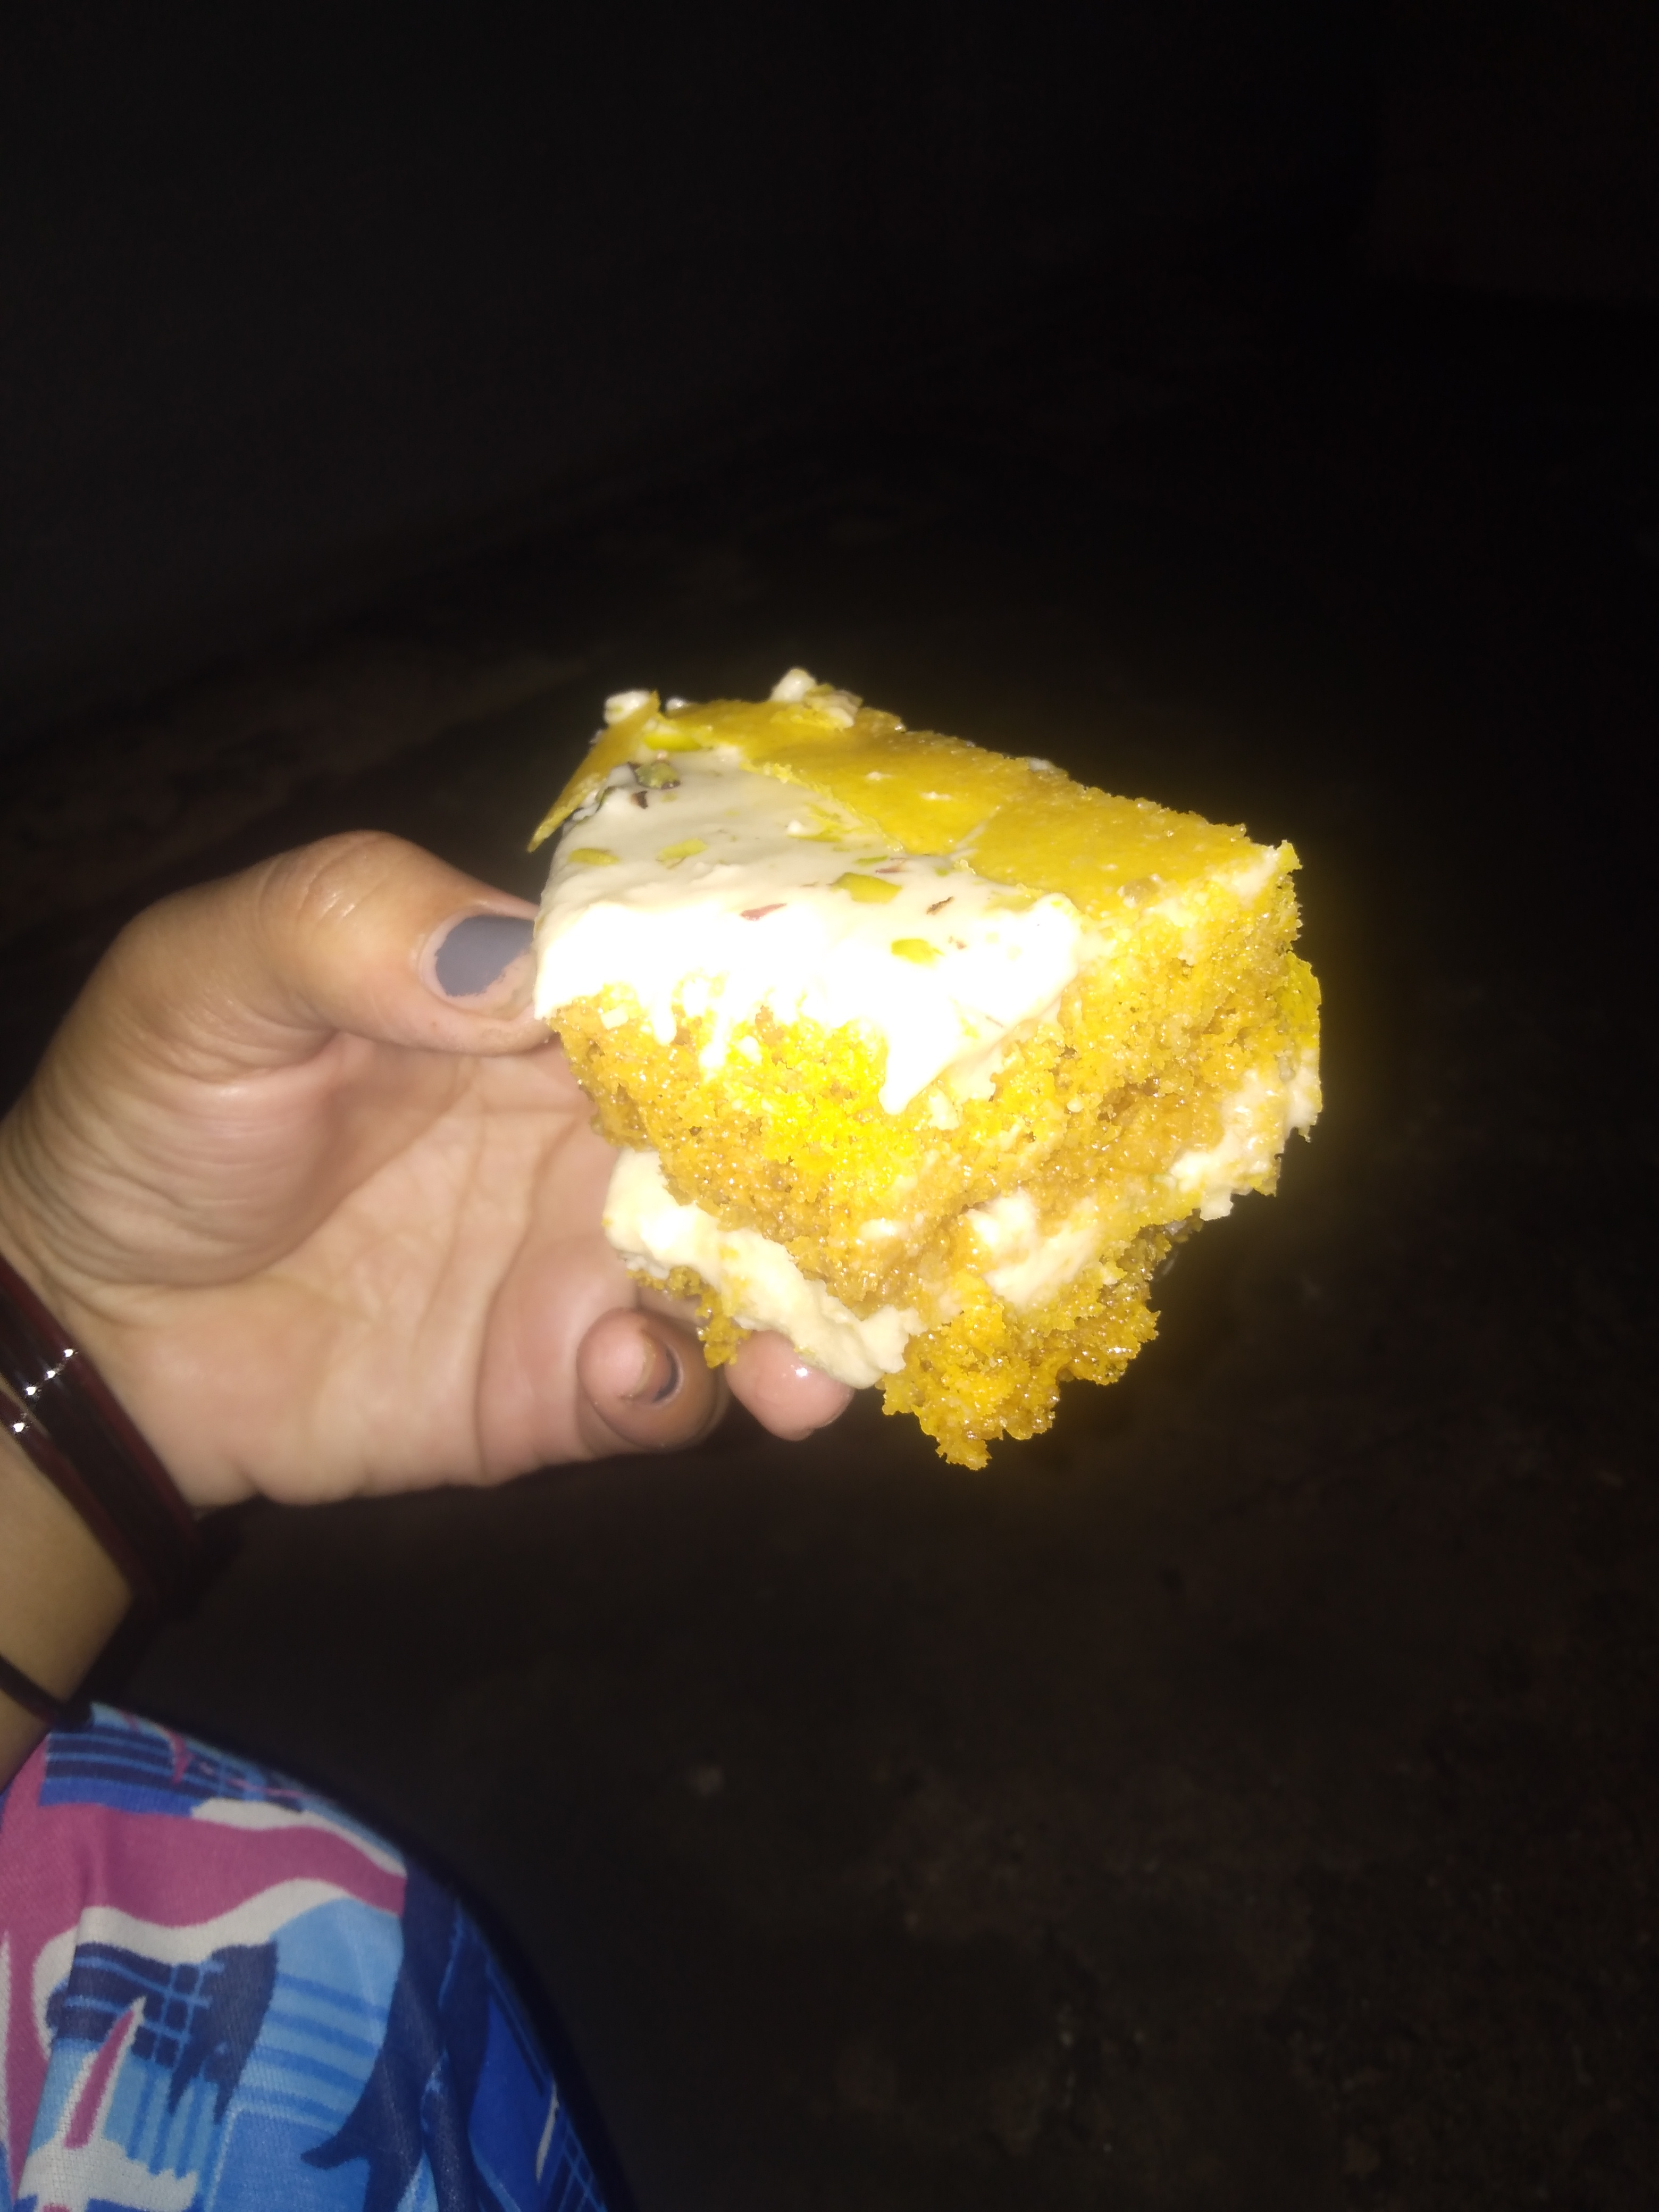food: (523, 658, 1335, 1479)
